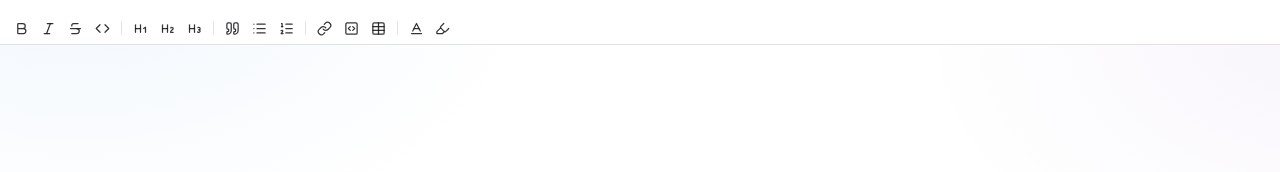
Test: MarkdownToolbar › 取色器：点开才出色板，选色后派发并收起
The image size is (1280, 172).
Click the button named "文字颜色". click: (416,28)
box: 403,15 -> 429,41
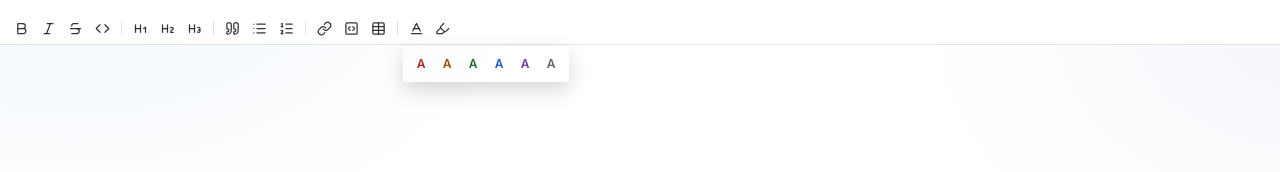
Check: the number of buttons named "文字" is 6
Click the button named "蓝色文字". click: (499,64)
box: 488,53 -> 510,75
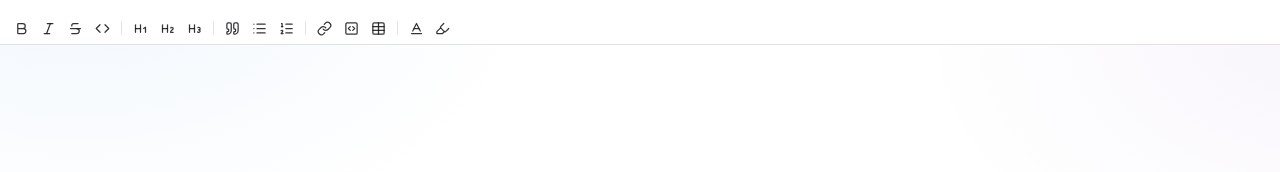
Check: the text "A A A A A A" is gone
